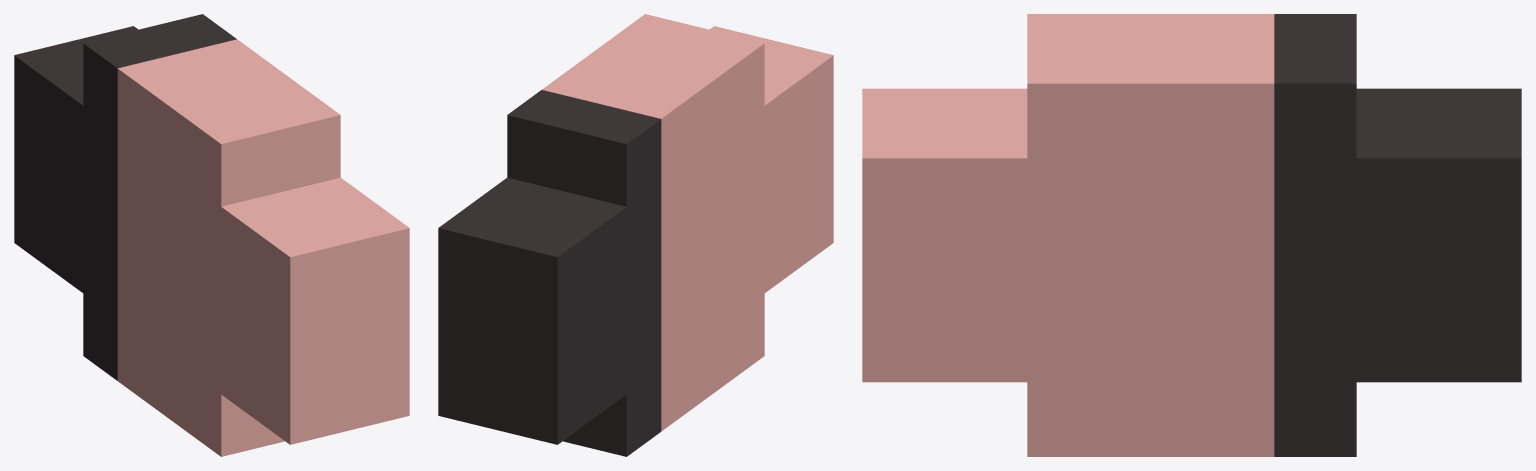
File: flamingo__wing_r.glb
The picture shows the model from 3 angles, left to right: view 1: azimuth 30°, elevation 25°; view 2: azimuth 150°, elevation 25°; view 3: azimuth 270°, elevation 25°; orthographic projection. The views are drawn at different scales.
Parts seen in each view (by area): view 1: flamingo__wing_r; view 2: flamingo__wing_r; view 3: flamingo__wing_r.
Boxes of the visible parts, left/top/right/bottom form: flamingo__wing_r: left=14, top=14, right=409, bottom=456; flamingo__wing_r: left=438, top=14, right=833, bottom=456; flamingo__wing_r: left=862, top=14, right=1521, bottom=456.
Bounding box in the file's own units: 0.2 × 0.5 × 0.8.
Materials: 1 (1 with a texture image).
